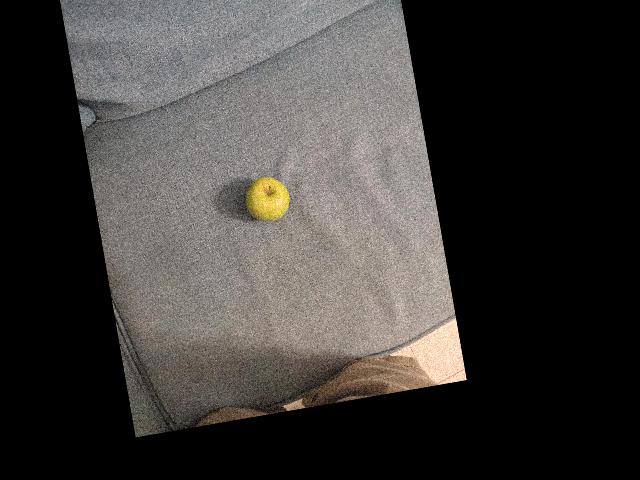apple: (245, 171, 308, 237)
